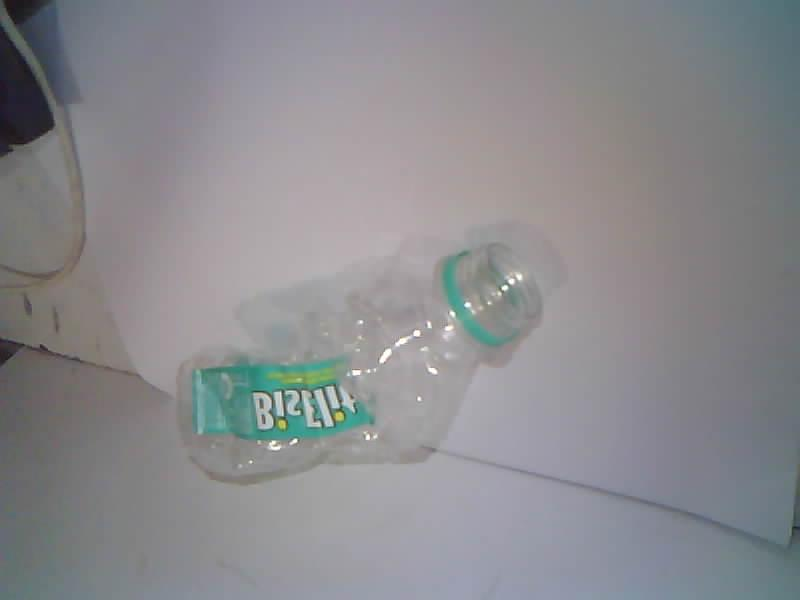non-biodegradable: (177, 245, 541, 482)
